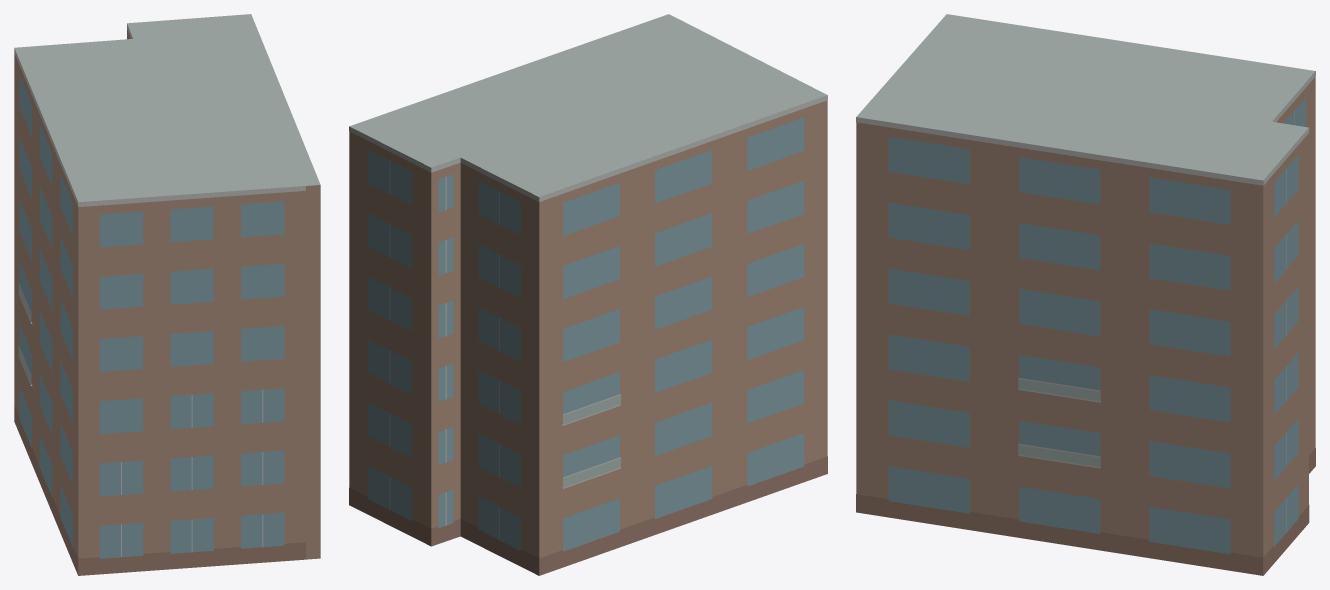
The model's file is survey-upis-32566709.glb.
3 renders of one model, left to right at view 1: azimuth 30°, elevation 25°; view 2: azimuth 150°, elevation 25°; view 3: azimuth 270°, elevation 25°, orthographic. The views are drawn at different scales.
Visible parts, largest first — view 1: survey-upis-32566709.tmp; view 2: survey-upis-32566709.tmp; view 3: survey-upis-32566709.tmp.
Part boxes in pixels (box(x1,y1,x2,y2)): survey-upis-32566709.tmp: box(14, 14, 320, 575); survey-upis-32566709.tmp: box(349, 14, 827, 575); survey-upis-32566709.tmp: box(856, 14, 1315, 575).
Bounding box in the file's own units: 16.73 × 18.5 × 19.5.
